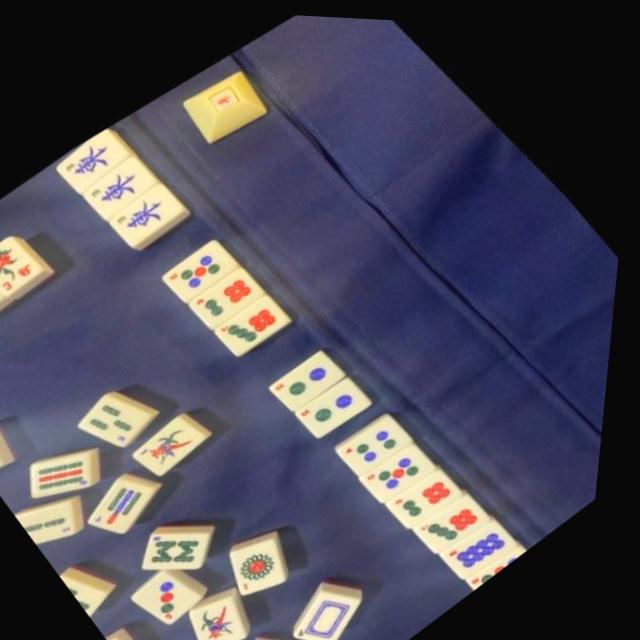hwe: (84, 140, 162, 214), (57, 116, 131, 186), (112, 171, 184, 240)
sd2: (297, 359, 375, 433), (272, 335, 348, 405)
sd4: (339, 398, 416, 472)
sd5: (363, 425, 442, 500), (164, 226, 239, 298)
sd6: (194, 250, 272, 325), (391, 452, 468, 523)
sd7: (218, 277, 296, 351), (418, 475, 495, 549)
sd8: (443, 500, 523, 575)
sd9: (470, 527, 535, 587)
